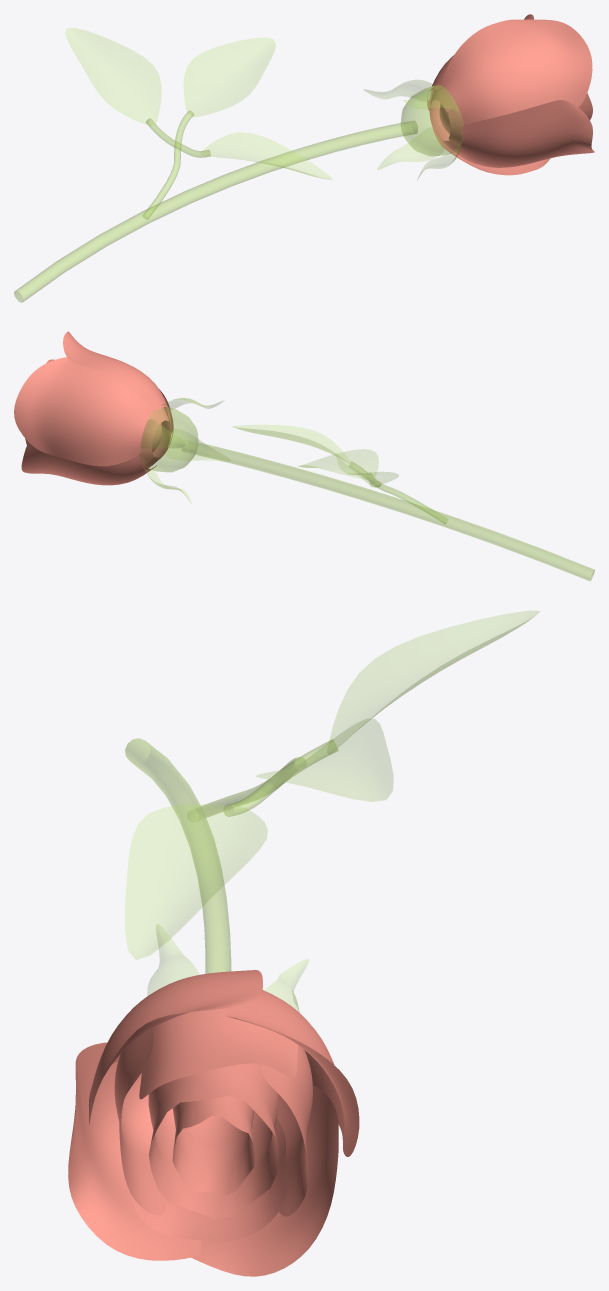
The model's file is rose.glb.
3 views of the same model, one above another, from view 1: azimuth 30°, elevation 25°; view 2: azimuth 150°, elevation 25°; view 3: azimuth 270°, elevation 25° (orthographic). The views are drawn at different scales.
Visible parts, largest first — view 1: Rose; view 2: Rose; view 3: Rose.
Part boxes in pixels (x1=…): Rose: x1=14, y1=14, x2=594, y2=302; Rose: x1=14, y1=331, x2=594, y2=580; Rose: x1=68, y1=610, x2=539, y2=1276.
Size of the model in its own units: 187 by 49.41 by 71.55.
